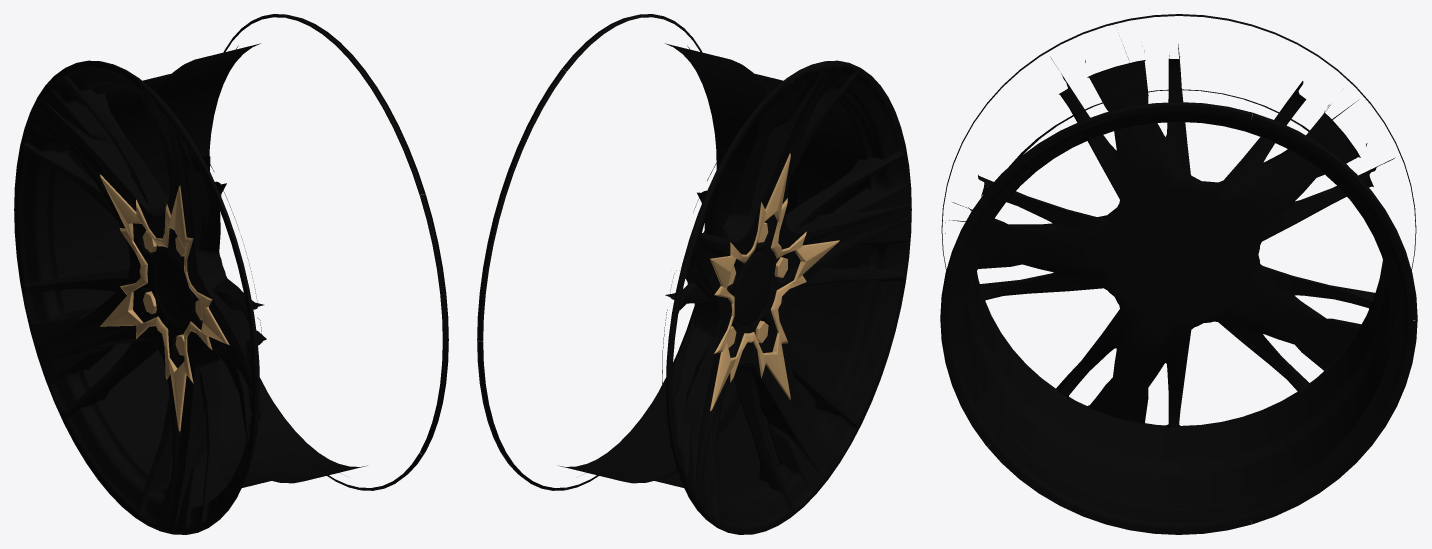
The model's file is Rim_FL_Bronze.glb.
3 renders of one model, left to right at view 1: azimuth 30°, elevation 25°; view 2: azimuth 150°, elevation 25°; view 3: azimuth 270°, elevation 25°, orthographic. The views are drawn at different scales.
Visible parts, largest first — view 1: WheelFrontLRim; view 2: WheelFrontLRim; view 3: WheelFrontLRim.
Part boxes in pixels (x1,y1,x2,y2): WheelFrontLRim: [14, 14, 448, 534]; WheelFrontLRim: [477, 14, 911, 534]; WheelFrontLRim: [940, 14, 1417, 534].
Size of the model in its own units: 0.2785 by 0.6066 by 0.6066.
